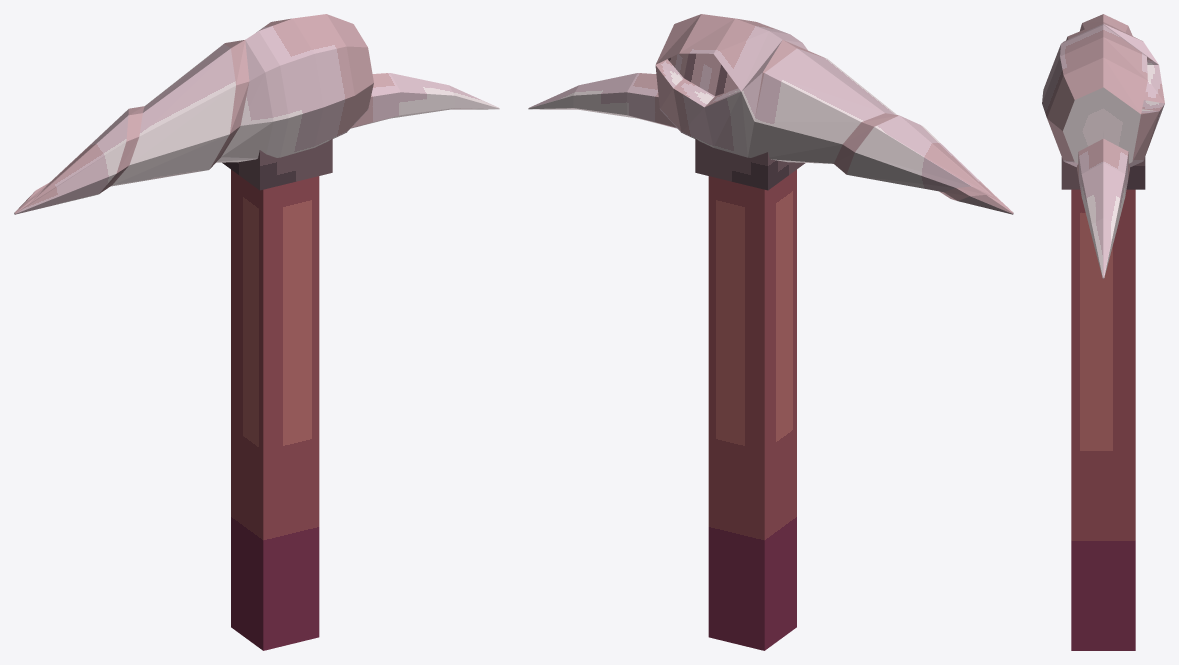
Rendered from seashell_pickaxe.obj.
The picture shows the model from 3 angles, left to right: view 1: azimuth 30°, elevation 25°; view 2: azimuth 150°, elevation 25°; view 3: azimuth 270°, elevation 25°; orthographic projection.
Parts seen in each view (by area): view 1: shaft, two_broad_helical_whorl_shoulders, large_body_whorl_with_tapered_side_mouth, opposed_pointed_siphonal_extension, seated_shell_saddle; view 2: shaft, two_broad_helical_whorl_shoulders, large_body_whorl_with_tapered_side_mouth, opposed_pointed_siphonal_extension, short_lateral_aperture_with_shell_wall, seated_shell_saddle; view 3: shaft, large_body_whorl_with_tapered_side_mouth, opposed_pointed_siphonal_extension, seated_shell_saddle, short_lateral_aperture_with_shell_wall, two_broad_helical_whorl_shoulders.
Boxes of the visible parts, box(x1,y1,x2,y2) form: shaft: box(231, 169, 319, 650); two_broad_helical_whorl_shoulders: box(14, 40, 273, 214); large_body_whorl_with_tapered_side_mouth: box(245, 14, 373, 157); opposed_pointed_siphonal_extension: box(351, 73, 499, 128); seated_shell_saddle: box(222, 138, 332, 190); shaft: box(708, 169, 796, 650); two_broad_helical_whorl_shoulders: box(754, 40, 1013, 214); large_body_whorl_with_tapered_side_mouth: box(655, 14, 802, 157); opposed_pointed_siphonal_extension: box(528, 73, 676, 128); short_lateral_aperture_with_shell_wall: box(656, 53, 740, 107); seated_shell_saddle: box(695, 138, 805, 190); shaft: box(1071, 189, 1135, 650); large_body_whorl_with_tapered_side_mouth: box(1042, 24, 1164, 167); opposed_pointed_siphonal_extension: box(1077, 138, 1129, 278); seated_shell_saddle: box(1061, 157, 1145, 189); short_lateral_aperture_with_shell_wall: box(1141, 57, 1164, 114); two_broad_helical_whorl_shoulders: box(1066, 14, 1142, 41).
Size of the model in its own units: 1.08 by 1.3 by 0.238.
